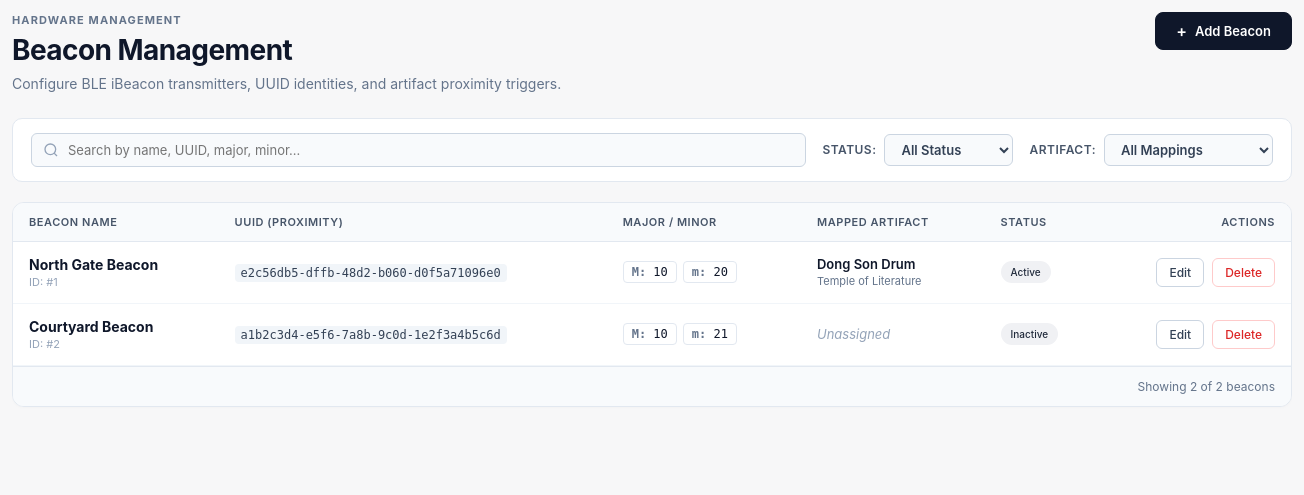
BeaconsPage — Admin Beacon Management › error handling › shows a permission message for 403 on delete
The width and height of the screenshot is (1304, 495).
Expected: the text "North Gate Beacon" is shown, 29,256 -> 158,272
Click the button with aria-label "delete north gate beacon" at (1244, 272), box 1212,258 -> 1275,286
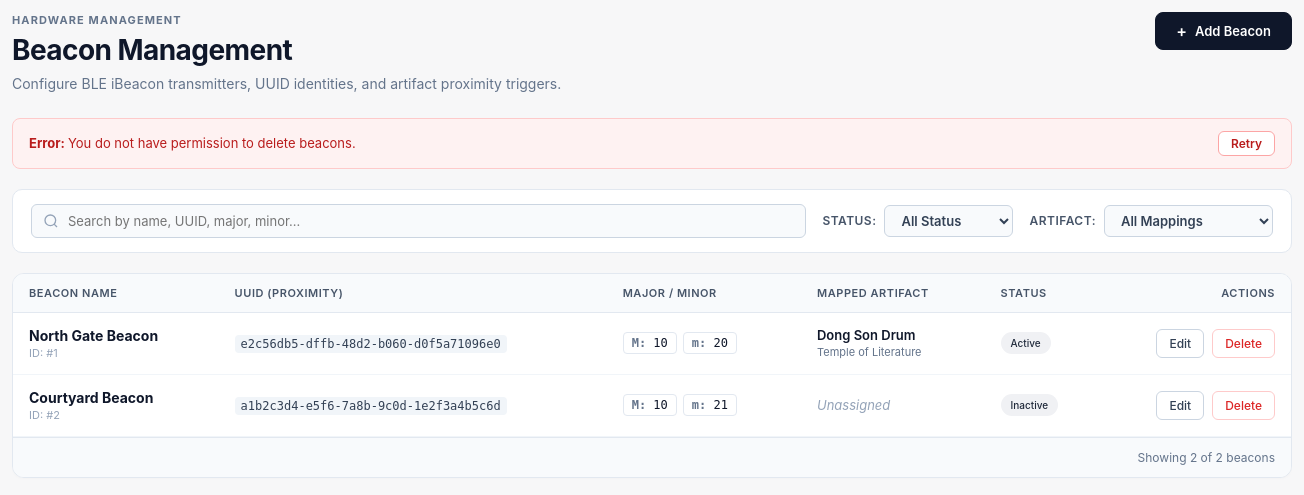
Result: the text "You do not have permission to delete beacons." is shown at 68,135 -> 356,151
